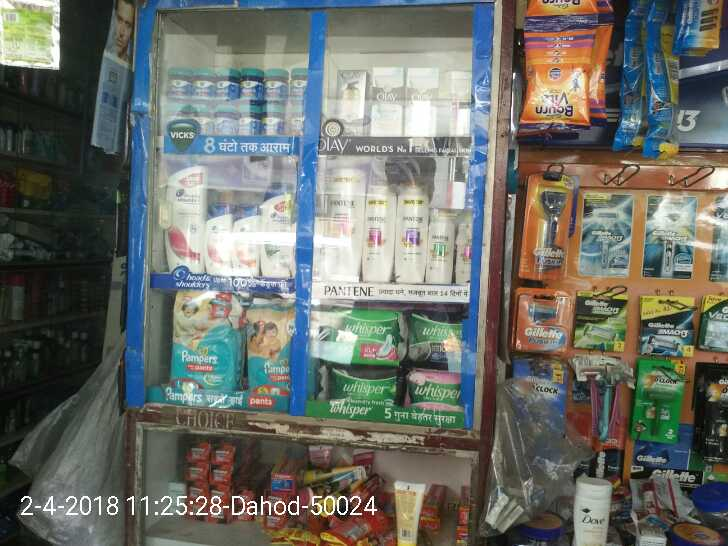vicks: (220, 64, 244, 98), (170, 63, 195, 94), (266, 67, 288, 102), (195, 64, 220, 94), (288, 67, 309, 102), (262, 105, 283, 139), (244, 67, 266, 98), (211, 106, 233, 135), (240, 104, 259, 137)
